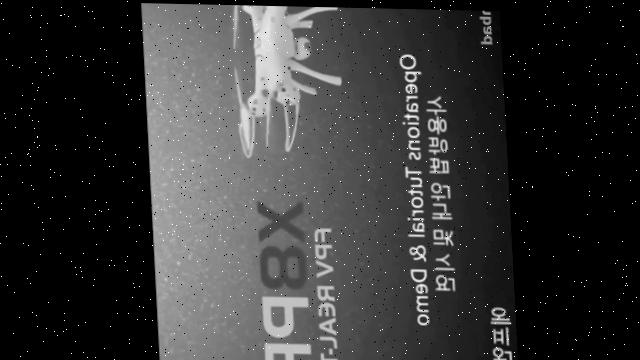drone: (223, 4, 346, 163)
